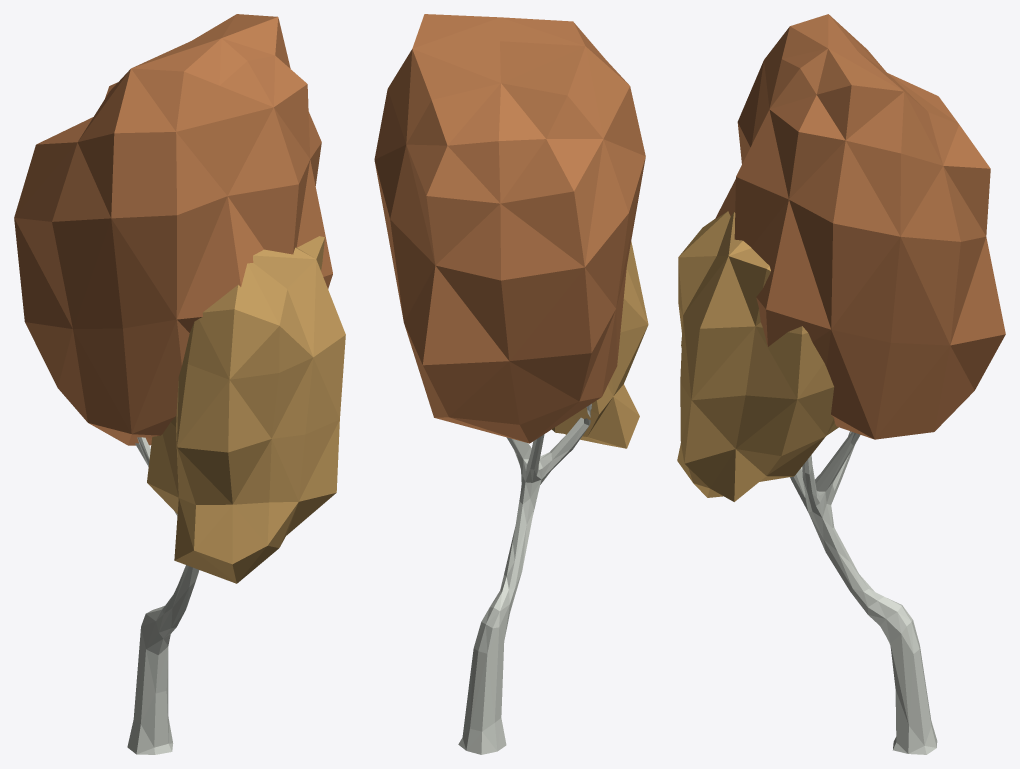
File: BirchTree_Autumn_2.lod1.glb
3 renders of one model, left to right at view 1: azimuth 30°, elevation 25°; view 2: azimuth 150°, elevation 25°; view 3: azimuth 270°, elevation 25°, orthographic. The views are drawn at different scales.
Visible parts, largest first — view 1: BirchTree_Autumn_2; view 2: BirchTree_Autumn_2; view 3: BirchTree_Autumn_2.
Boxes of the visible parts, x1,y1,x2,y2 form: BirchTree_Autumn_2: [14, 14, 345, 754]; BirchTree_Autumn_2: [374, 14, 648, 754]; BirchTree_Autumn_2: [677, 14, 1005, 754].
Bounding box in the file's own units: 1.47 × 4.03 × 1.69.
